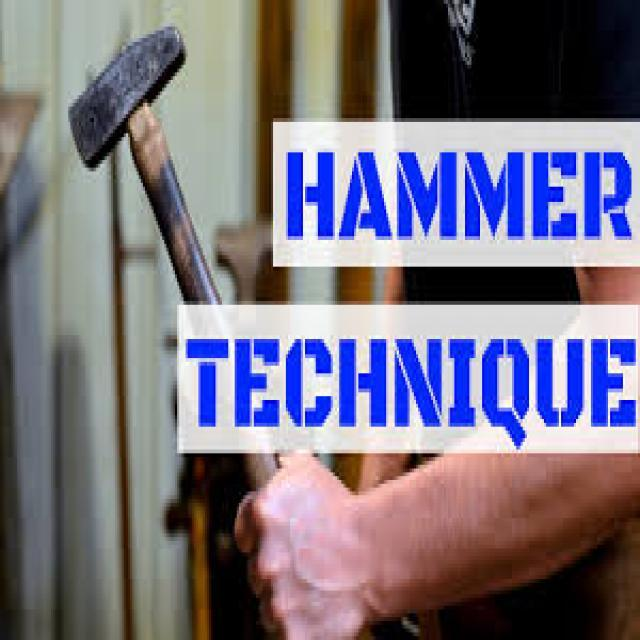hammer: (58, 11, 282, 506)
